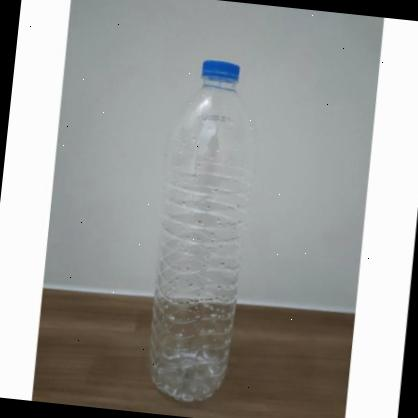bottle: (140, 56, 266, 408)
cap: (198, 59, 242, 86)
